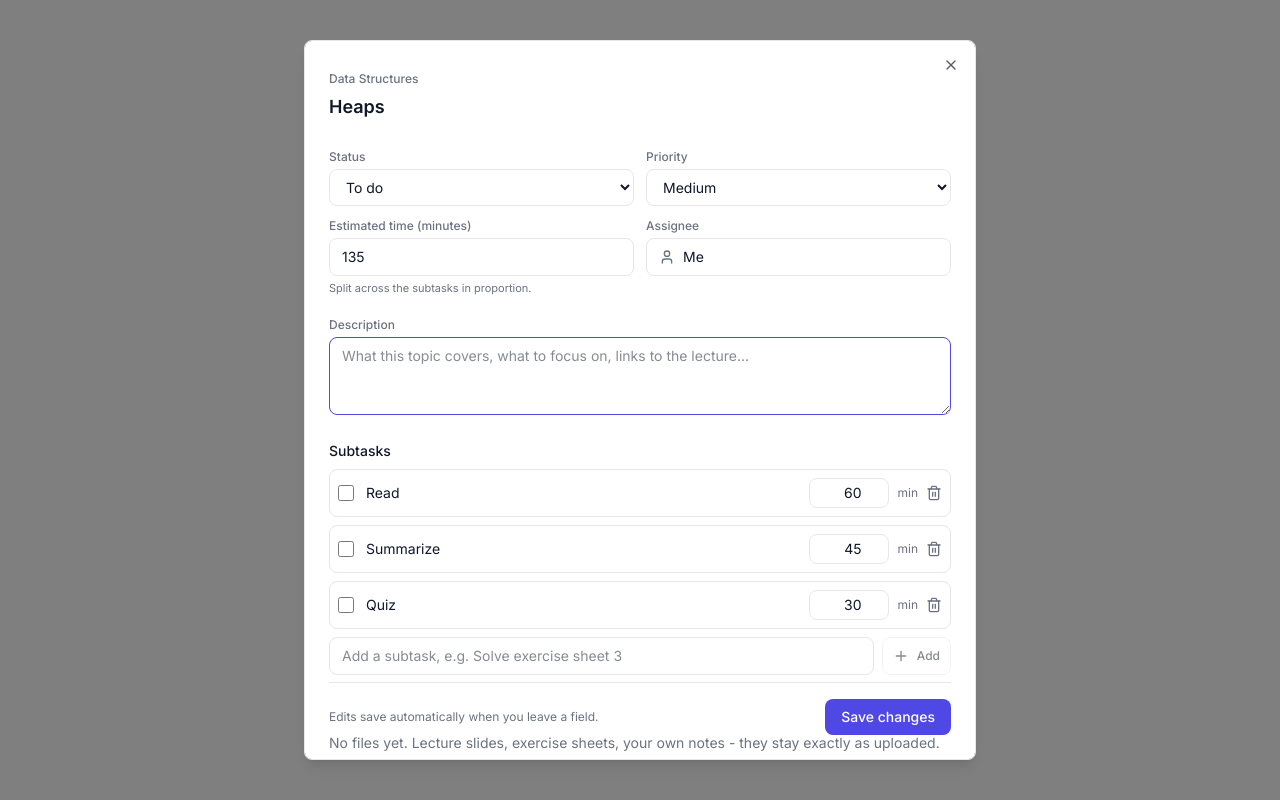
Test case: flushes the focused description and confirms saving
The image size is (1280, 800).
Replace the text in the text box labelled "Description" with "Updated description". click: point(640, 376)
box: x1=329 y1=336 x2=951 y2=414
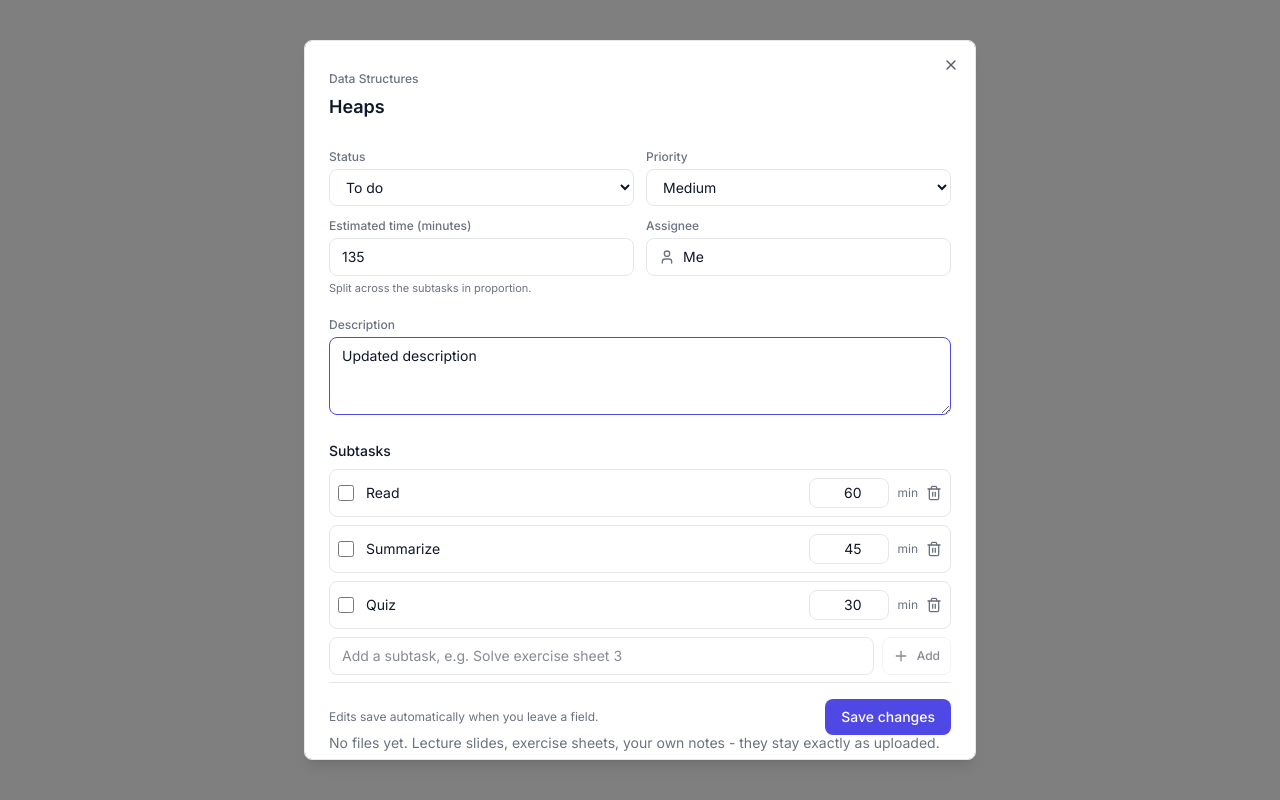
Click the button "Save changes". click: point(888, 717)
box: x1=825 y1=699 x2=951 y2=735
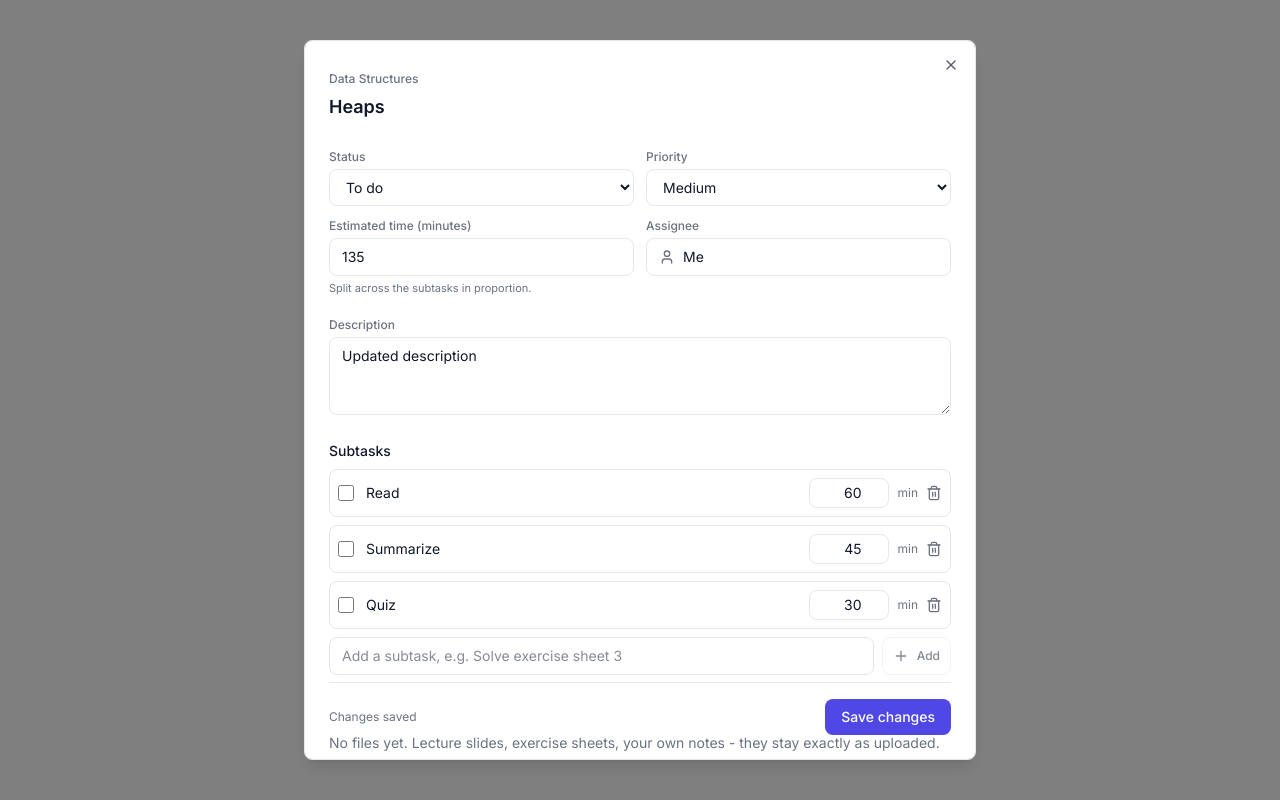
Now the text "Changes saved" is shown, box x1=329 y1=709 x2=416 y2=725
